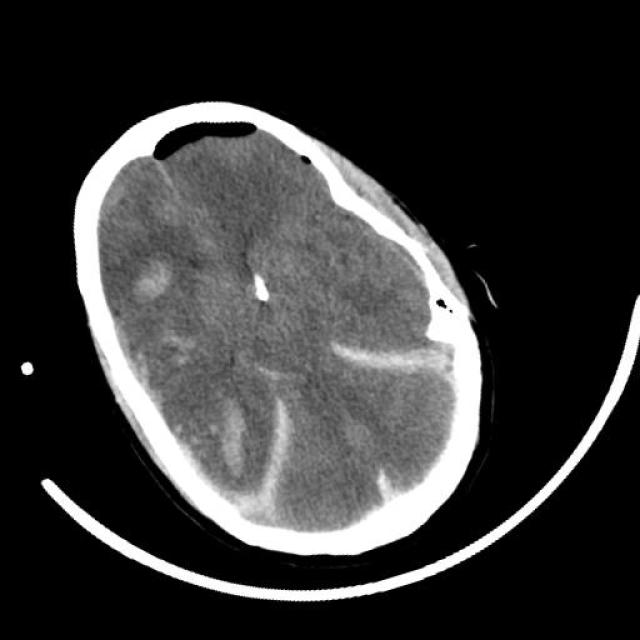Intraparenchymal: (77, 303, 183, 442), (112, 220, 213, 334), (184, 378, 282, 488), (145, 312, 217, 374)
Subdural: (160, 388, 332, 560), (315, 288, 497, 430)
